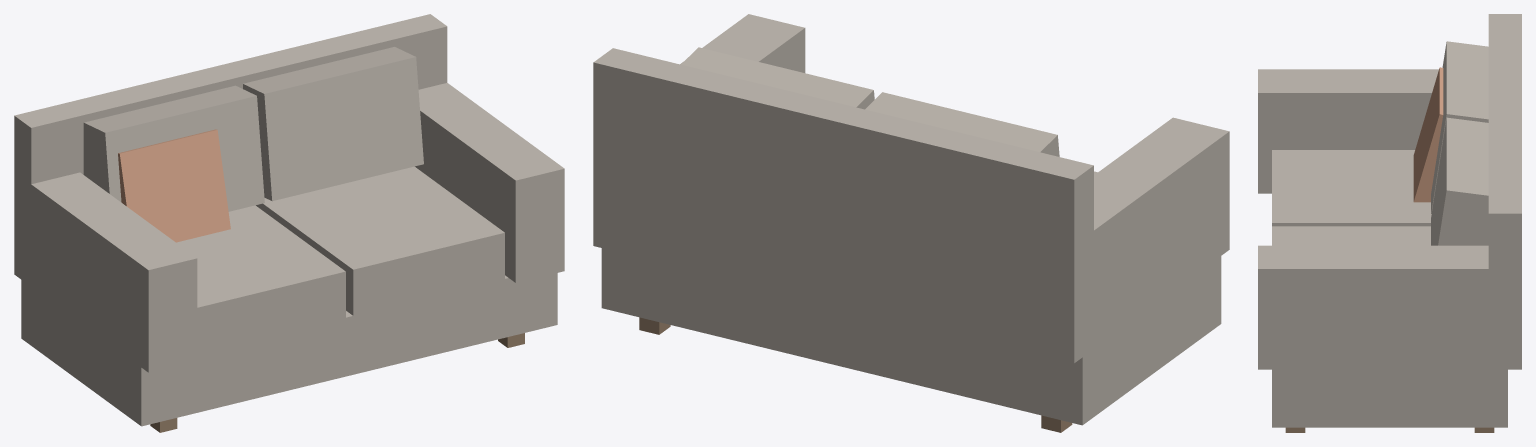
File: couch-2seat.gltf
3 renders of one model, left to right at view 1: azimuth 30°, elevation 25°; view 2: azimuth 150°, elevation 25°; view 3: azimuth 270°, elevation 25°, orthographic. The views are drawn at different scales.
Parts seen in each view (by area): view 1: base, arm_l, seat_1, back_1, back_frame, arm_r, seat_0, back_0, accent_pillow; view 2: back_frame, base, arm_l, arm_r, back_0, back_1; view 3: arm_r, arm_l, base, back_frame, seat_0, back_1, back_0, seat_1, accent_pillow.
Part boxes in pixels (box(x1,y1,x2,y2)): base: box(21, 273, 557, 426); arm_l: box(14, 172, 197, 372); seat_1: box(256, 166, 504, 315); back_1: box(243, 47, 423, 201); back_frame: box(14, 14, 447, 277); arm_r: box(415, 83, 564, 282); seat_0: box(176, 205, 345, 353); back_0: box(83, 85, 264, 211); accent_pillow: box(118, 129, 230, 242); back_frame: box(593, 48, 1093, 363); base: box(601, 248, 1221, 425); arm_l: box(1017, 117, 1229, 362); arm_r: box(593, 14, 805, 251); back_0: box(865, 92, 1059, 156); back_1: box(681, 47, 874, 109); arm_r: box(1258, 245, 1521, 369); arm_l: box(1258, 69, 1438, 193); base: box(1272, 369, 1507, 427); back_frame: box(1488, 14, 1521, 369); seat_0: box(1272, 150, 1431, 226); back_1: box(1431, 117, 1488, 245); back_0: box(1431, 41, 1488, 213); seat_1: box(1272, 226, 1430, 245); accent_pillow: box(1413, 67, 1443, 202).
Size of the model in its own units: 0.1063 by 0.0575 by 0.0594.
